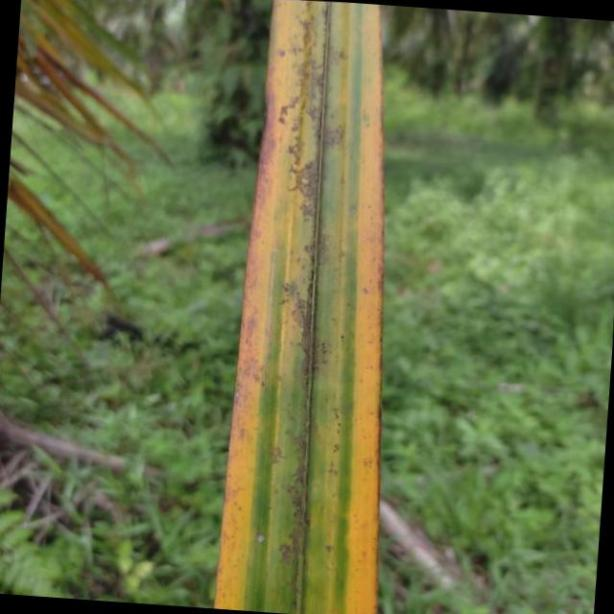Megnesium: (211, 0, 382, 614)
